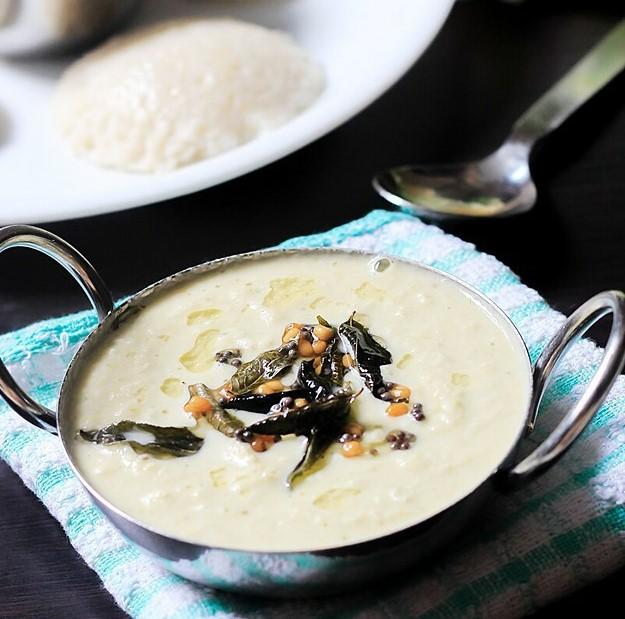CoconutChutney: (76, 255, 533, 549)
